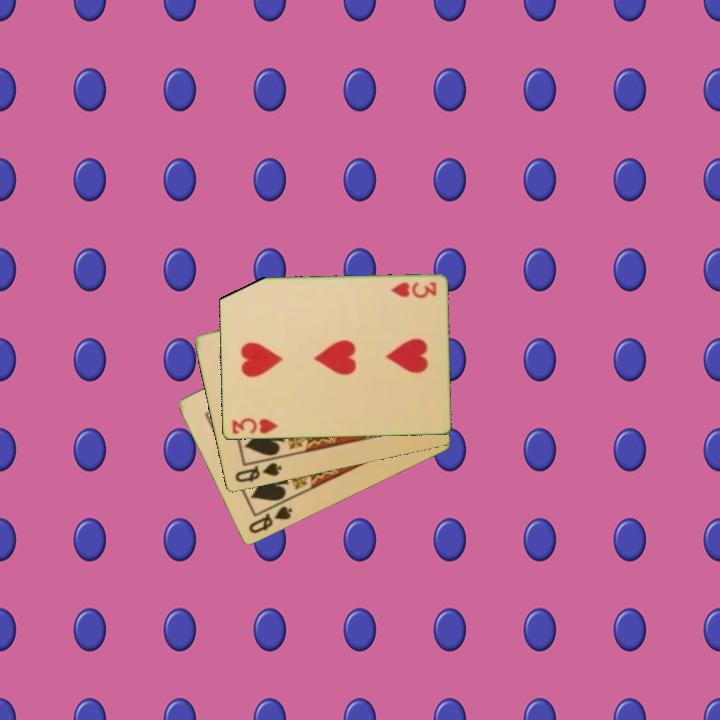3h: (228, 415, 280, 437), (387, 279, 439, 300)
Qs: (245, 503, 295, 537), (231, 459, 284, 486)
